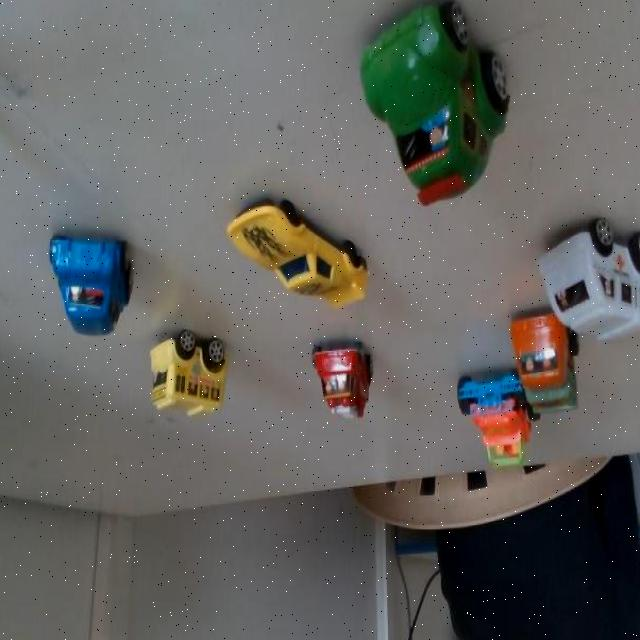car: (346, 0, 525, 209), (526, 196, 640, 362), (231, 189, 369, 317), (43, 222, 133, 340), (147, 316, 237, 421), (309, 322, 386, 432), (450, 372, 530, 476), (512, 307, 578, 423)
